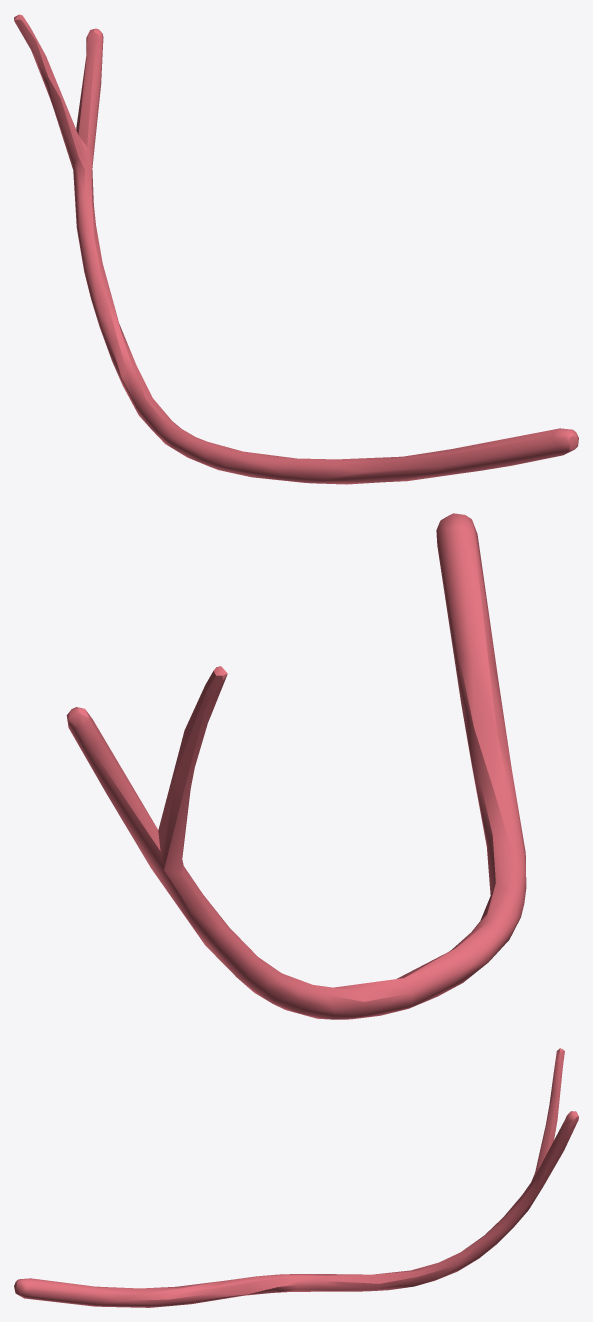
The model's file is fma50666_fj5071.glb.
3 views of the same model, one above another, from view 1: azimuth 30°, elevation 25°; view 2: azimuth 150°, elevation 25°; view 3: azimuth 270°, elevation 25° (orthographic). The views are drawn at different scales.
Visible parts, largest first — view 1: FMA50666_FJ5071; view 2: FMA50666_FJ5071; view 3: FMA50666_FJ5071.
Boxes of the visible parts, x1,y1,x2,y2 form: FMA50666_FJ5071: (14,14,578,484); FMA50666_FJ5071: (66,513,526,1019); FMA50666_FJ5071: (14,1048,578,1307).
Bounding box in the file's own units: 0.007 × 0.00972 × 0.0204.
